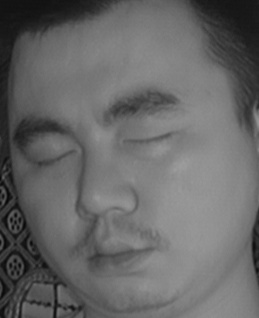blink: (124, 122, 177, 158), (30, 140, 77, 176)
mouth: (78, 227, 154, 278)
